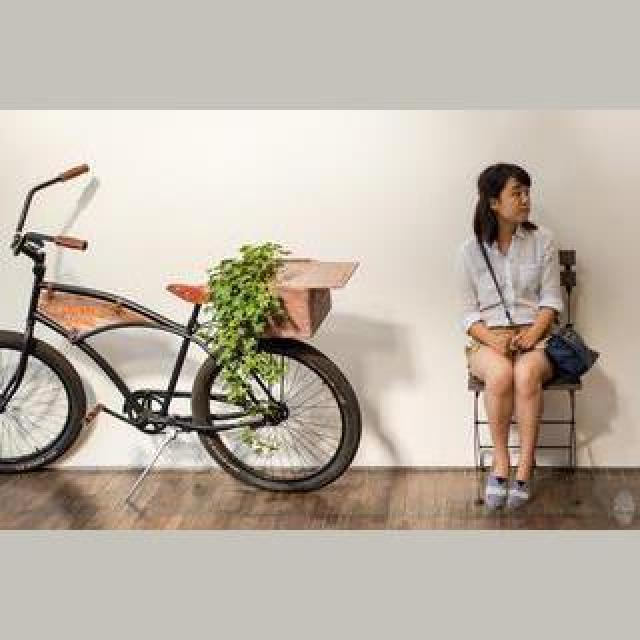MC-Bike: (458, 164, 568, 516)
Person: (2, 178, 368, 508)
